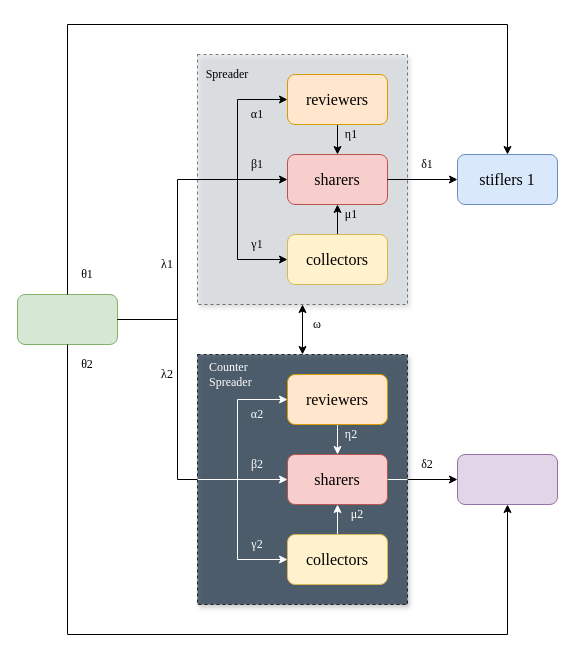
Image size: 575x660. Some labels were removed from this diagram. Each missing label, with the centre of its shape:
"ignorants" goes at point (67, 319).
"stiflers 2" goes at point (507, 479).
